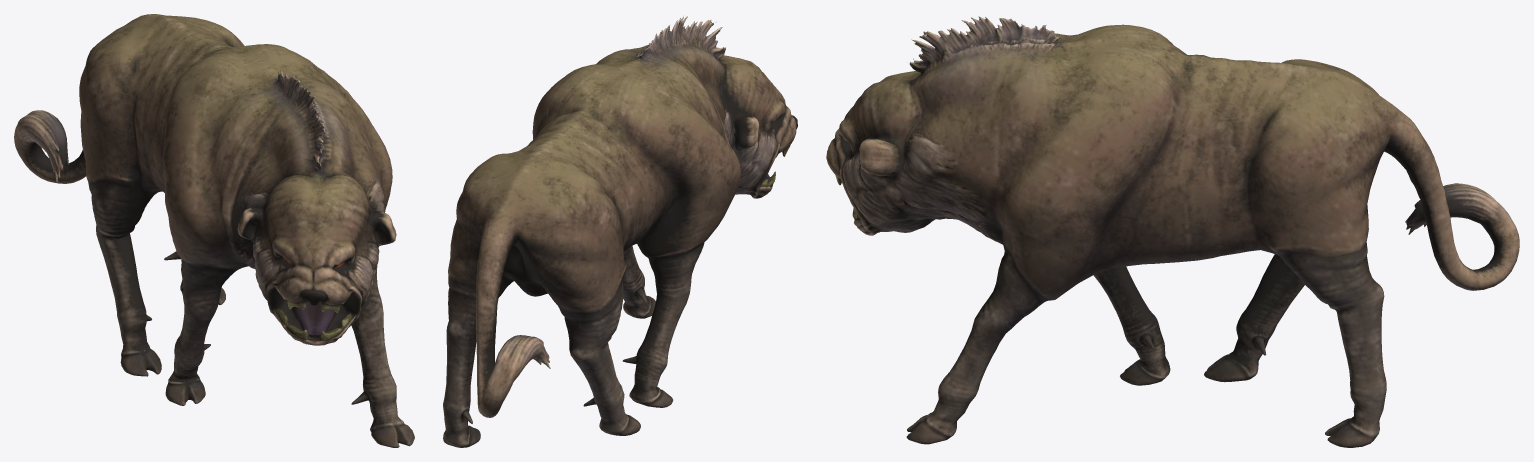
Rendered from MZ4250 - Leucrotta.glb.
The picture shows the model from 3 angles, left to right: view 1: azimuth 30°, elevation 25°; view 2: azimuth 150°, elevation 25°; view 3: azimuth 270°, elevation 25°; orthographic projection. The views are drawn at different scales.
Parts seen in each view (by area): view 1: Leucrotta_low.003; view 2: Leucrotta_low.003; view 3: Leucrotta_low.003.
Boxes of the visible parts, bbox=[...] form: Leucrotta_low.003: bbox=[14, 14, 414, 447]; Leucrotta_low.003: bbox=[443, 16, 797, 447]; Leucrotta_low.003: bbox=[826, 16, 1519, 447].
Size of the model in its own units: 1.24 by 2.04 by 3.3.
Materials: 1 (1 with a texture image).
